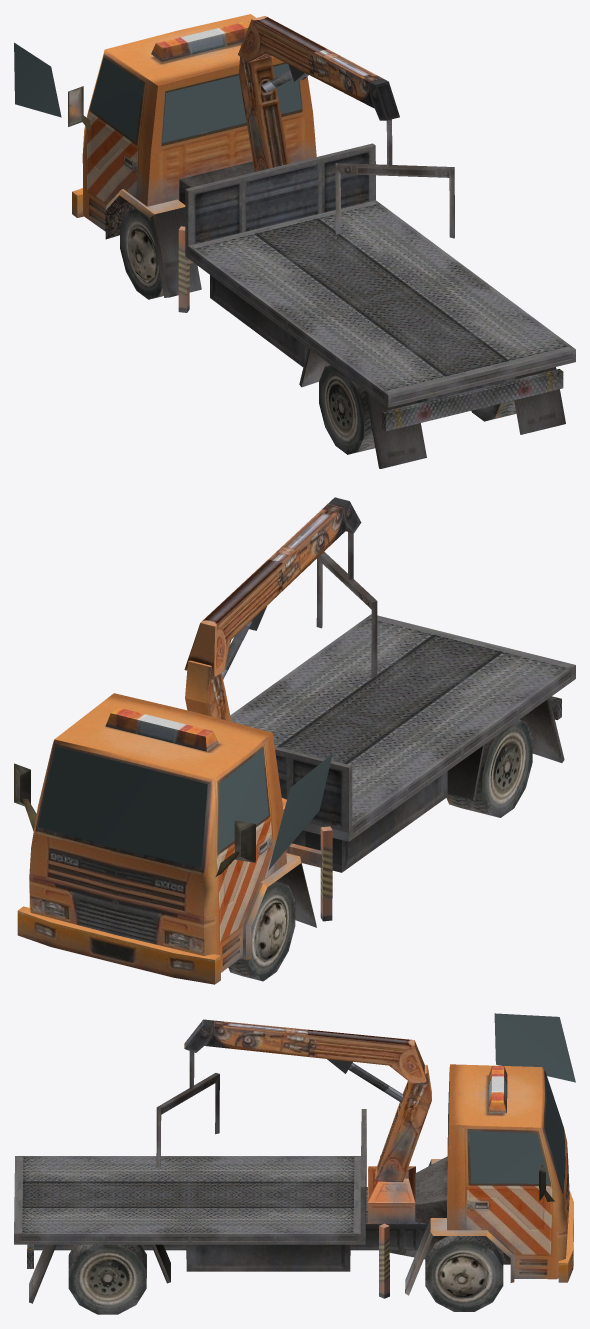
The model's file is p54_44_flatbed_boom_orange.glb.
3 renders of one model, top to bottom at view 1: azimuth 30°, elevation 25°; view 2: azimuth 150°, elevation 25°; view 3: azimuth 270°, elevation 25°, orthographic. The views are drawn at different scales.
Visible parts, largest first — view 1: Body, Glass; view 2: Body, Glass; view 3: Body, Glass.
Boxes of the visible parts, <box> form: Body: <box>68,14,575,468</box>; Glass: <box>14,42,301,142</box>; Body: <box>14,497,575,984</box>; Glass: <box>38,746,332,870</box>; Body: <box>14,1019,573,1314</box>; Glass: <box>447,1013,575,1188</box>.
Bounding box in the file's own units: 3.25 × 3.56 × 6.97.
Materials: 2 (2 with a texture image).
